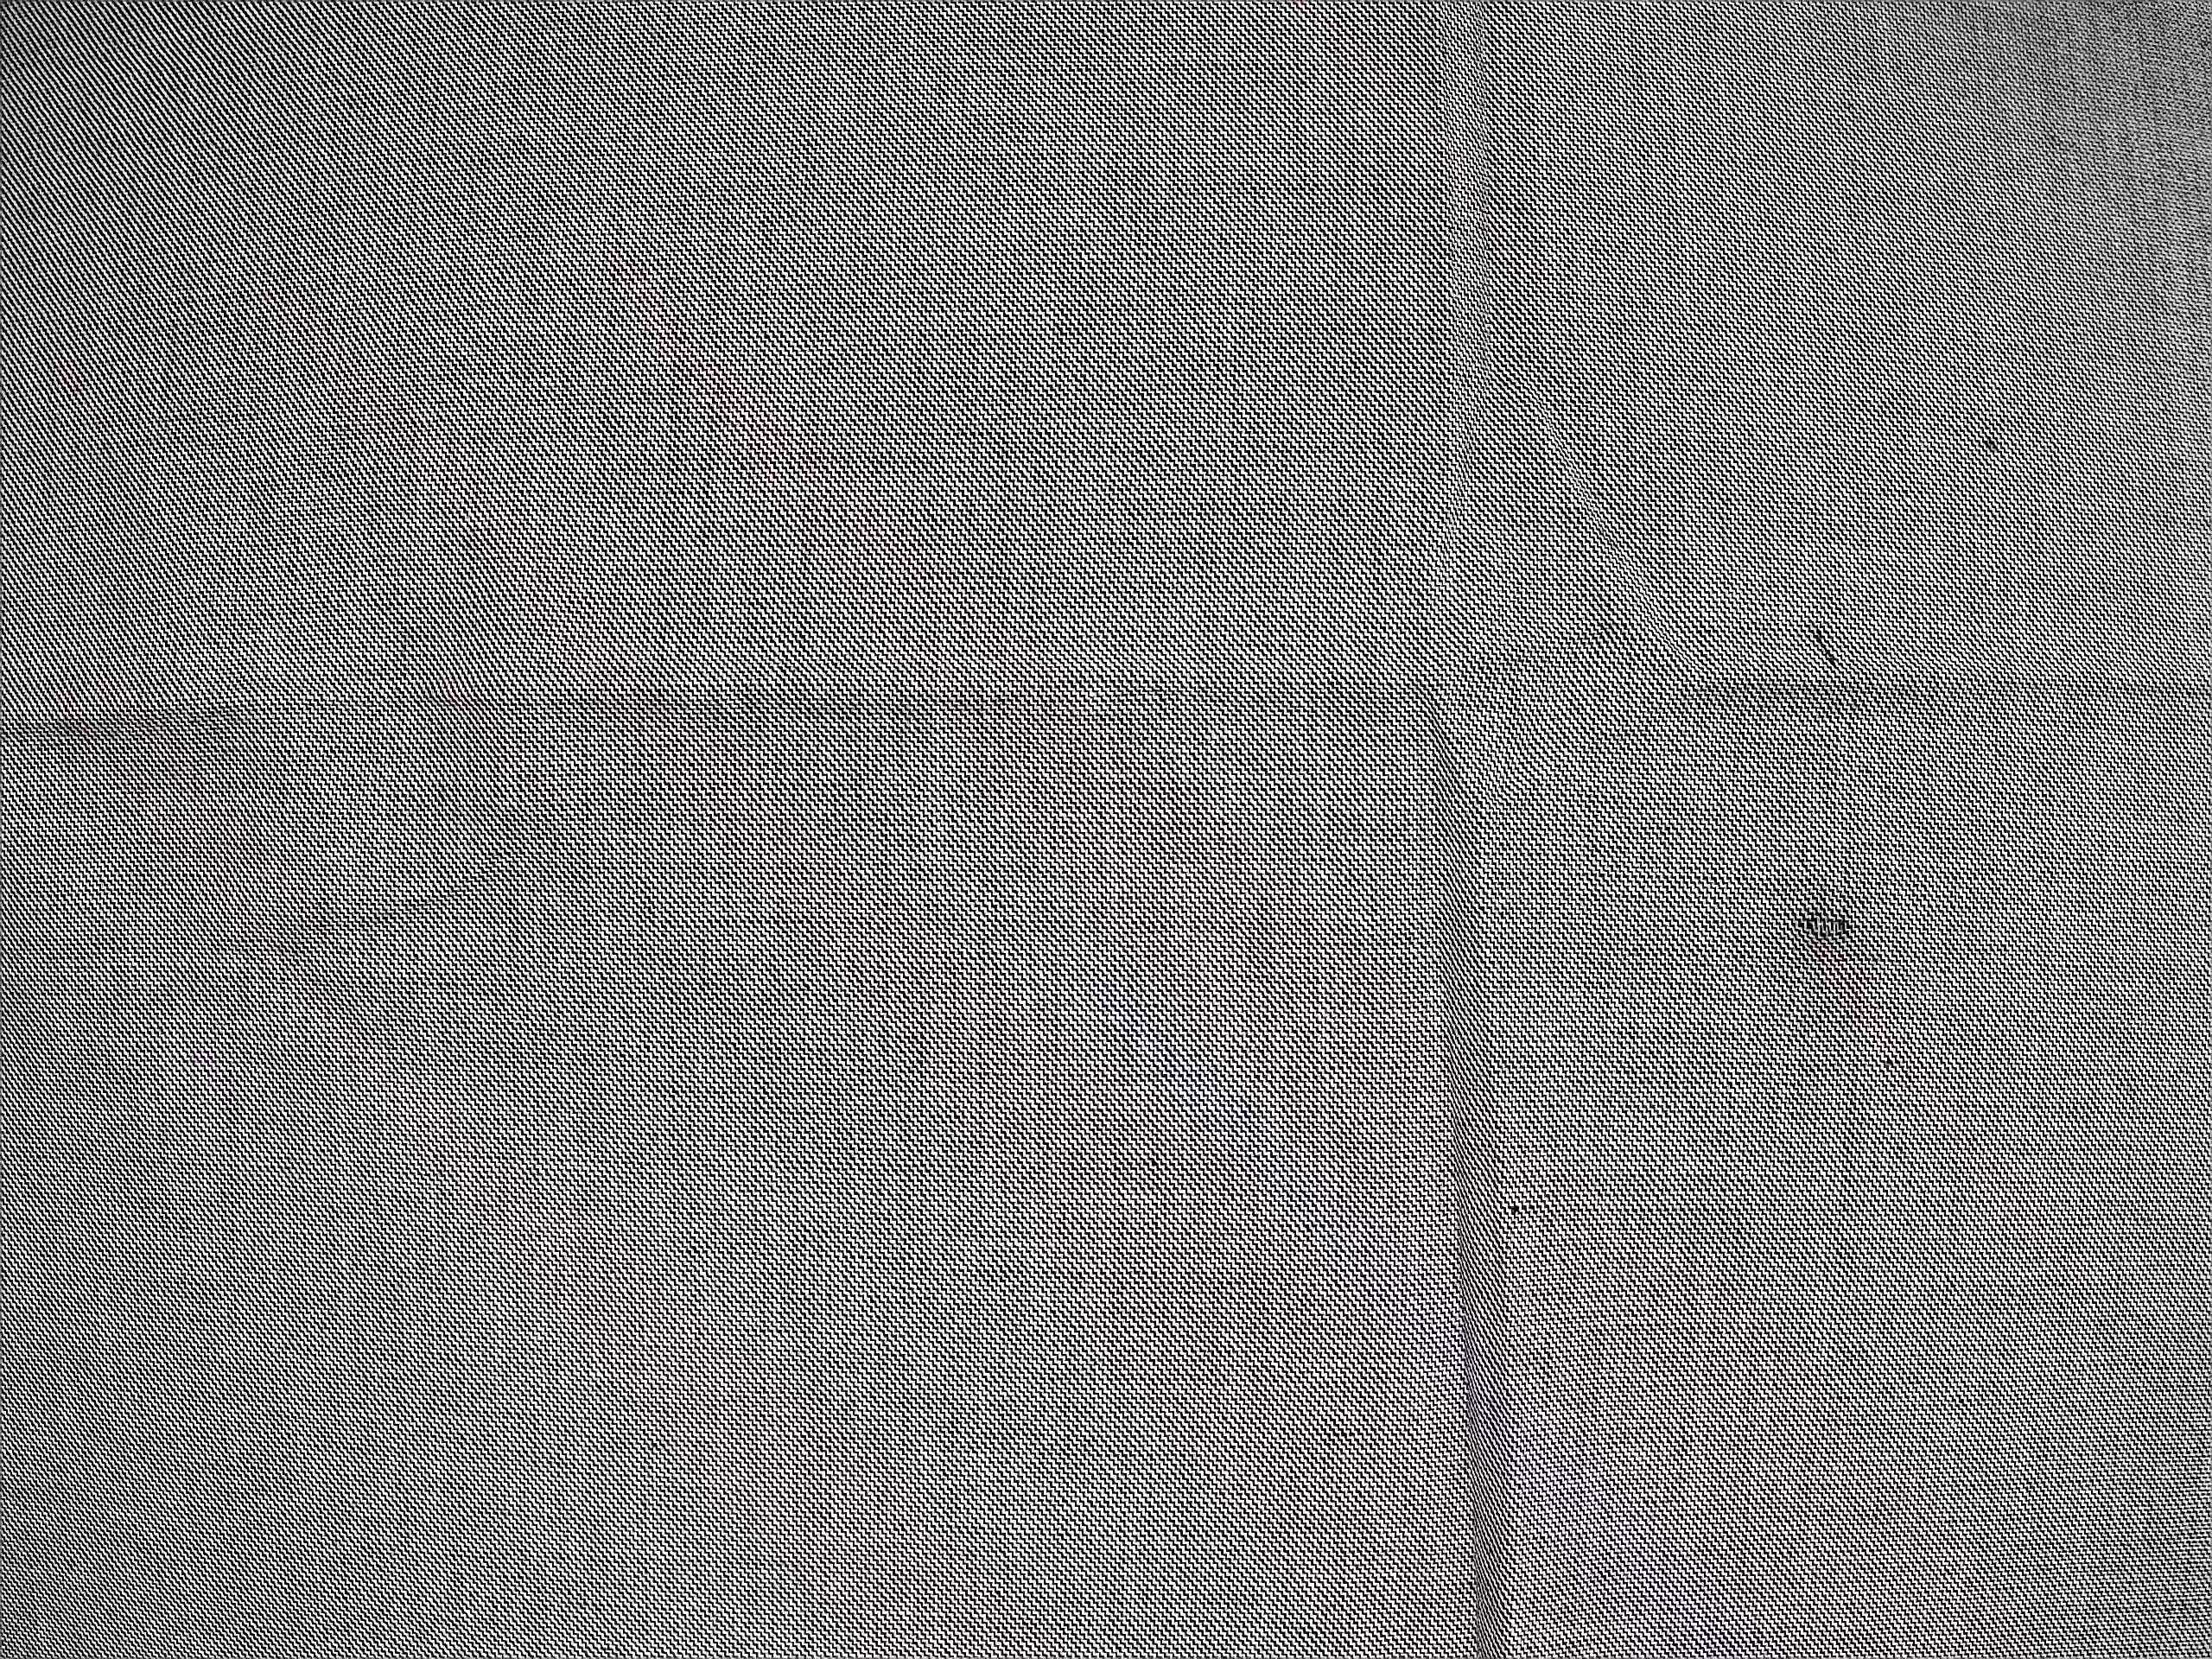stains: (1754, 855, 1910, 1020)
